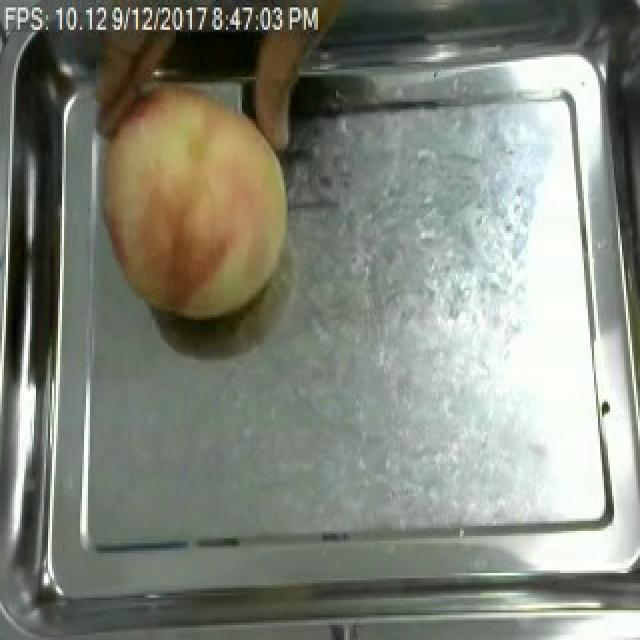Fruit: (82, 69, 302, 330)
